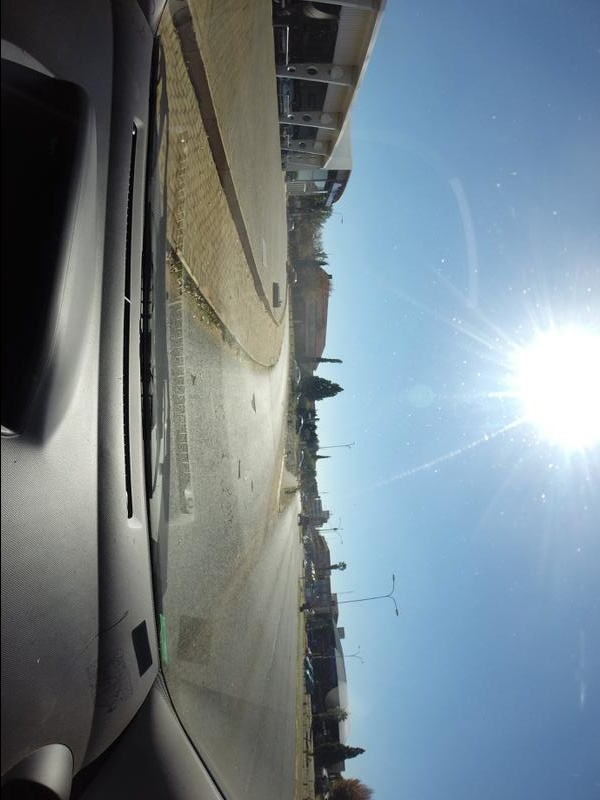pothole: (236, 455, 246, 484), (188, 370, 199, 396), (247, 393, 258, 417)
